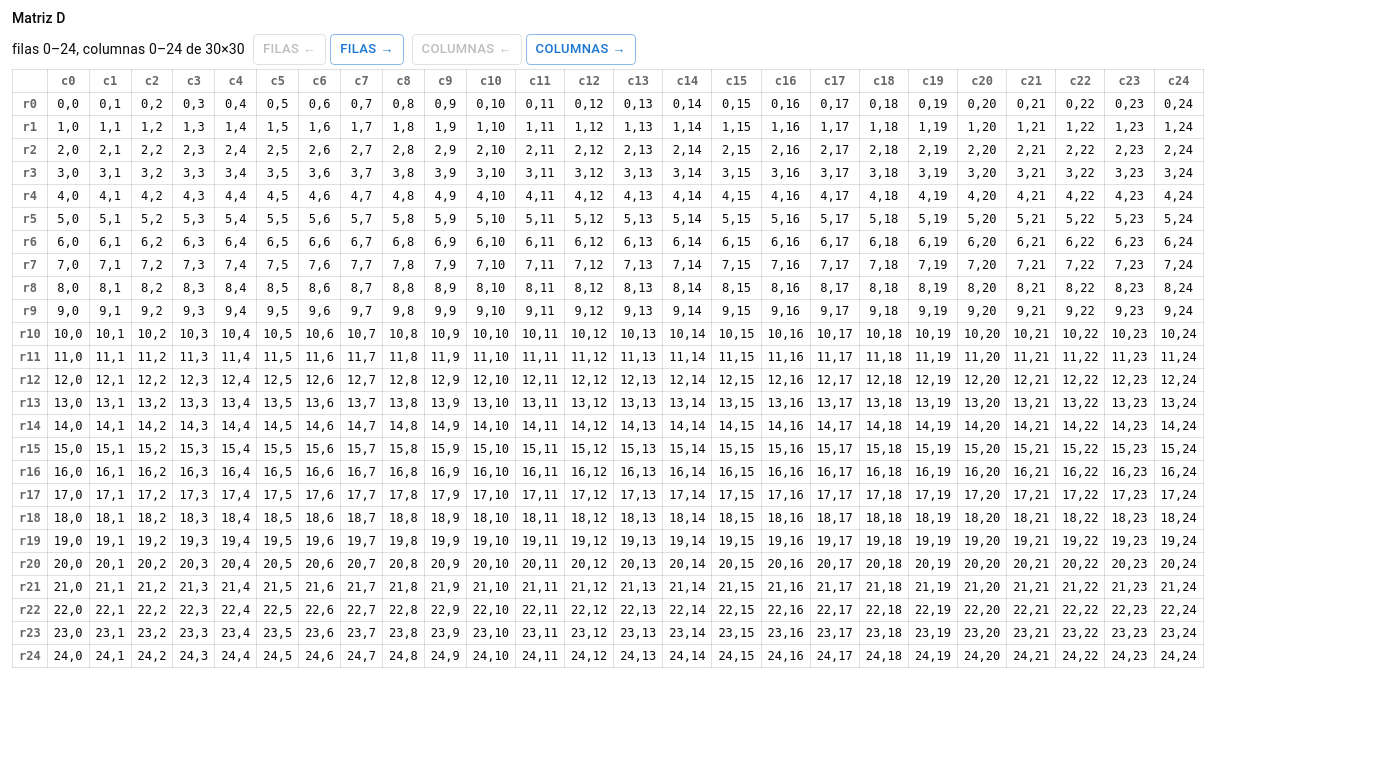
Scenario: PagedMatrix (REQ-17, AC-15) › muestra una matriz de 30×30 en bloques de 25 con el texto de rango
This screenshot has width=1378, height=768.
Expected: the text "filas 0–24, columnas 0–24 de 30×30" is shown, 12,39 -> 245,59
Expected: the text "0,0" is shown, 47,92 -> 89,115
Note: Bloque de columnas siguiente: columnas 25–29, 25×5 celdas.
Click the button with aria-label "Matriz D: columnas siguientes" at [581, 49], box 526,34 -> 636,65
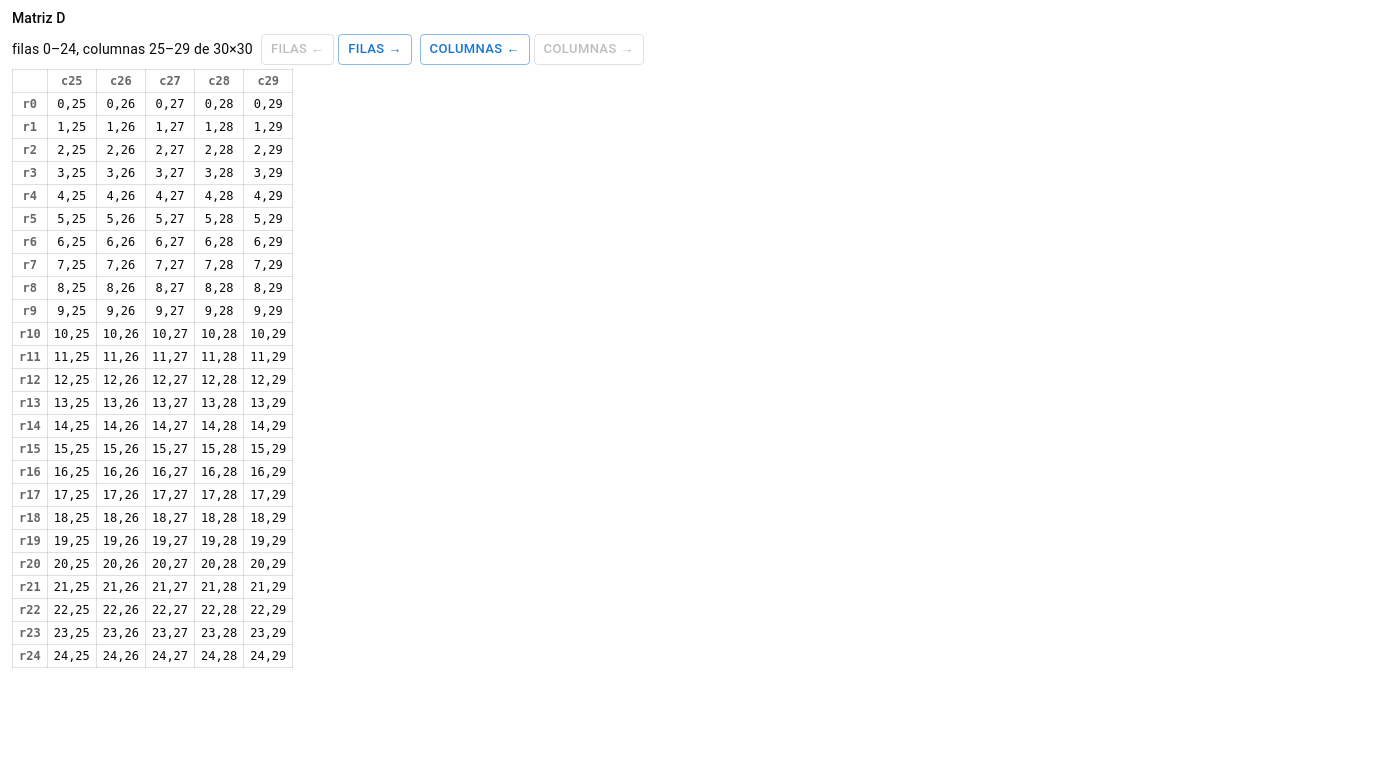
Result: the text "filas 0–24, columnas 25–29 de 30×30" is shown at 12,39 -> 253,59
Result: the number of cells is 125
Result: the text "0,25" is shown at 47,92 -> 96,115
Note: Bloque de filas siguiente: filas 25–29 y columnas 25–29, 5×5 celdas.
Click the button with aria-label "Matriz D: filas siguientes" at [375, 49], box 338,34 -> 412,65
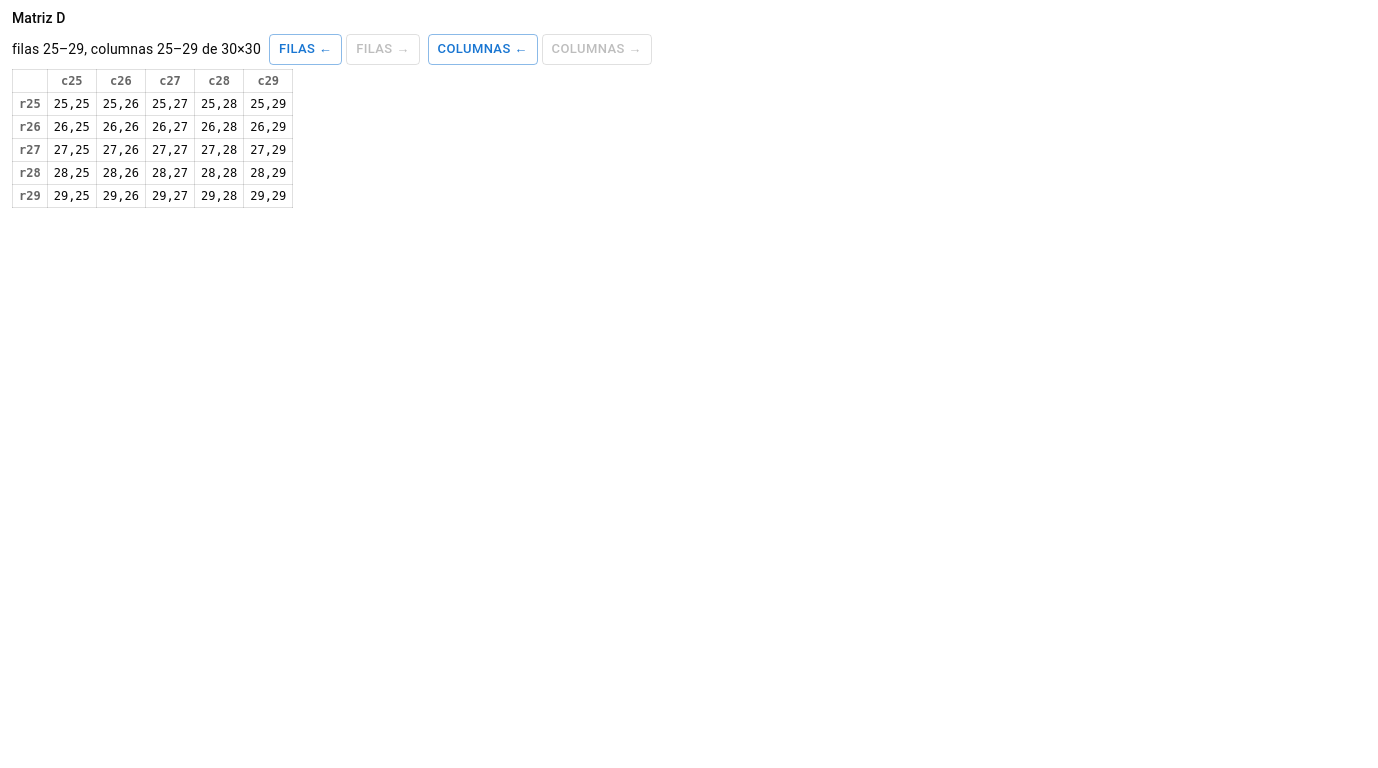
Result: the text "filas 25–29, columnas 25–29 de 30×30" is shown at 12,39 -> 261,59
Result: the number of cells is 25
Result: the text "29,29" is shown at 244,184 -> 293,207
